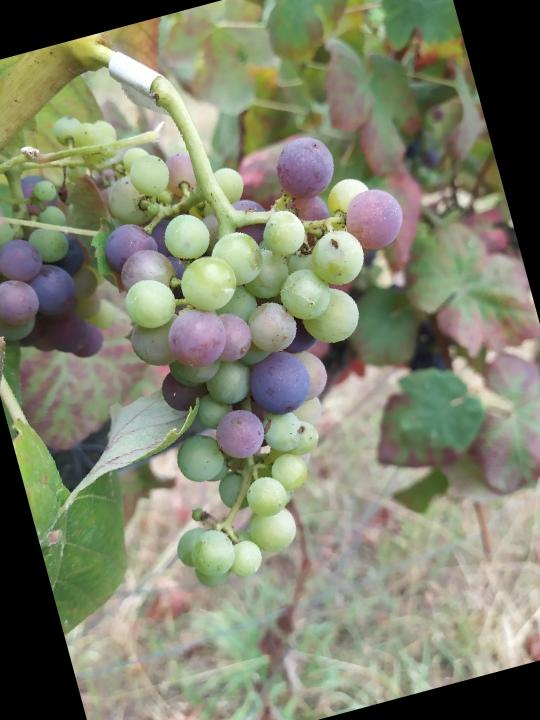grape: (72, 88, 488, 598)
